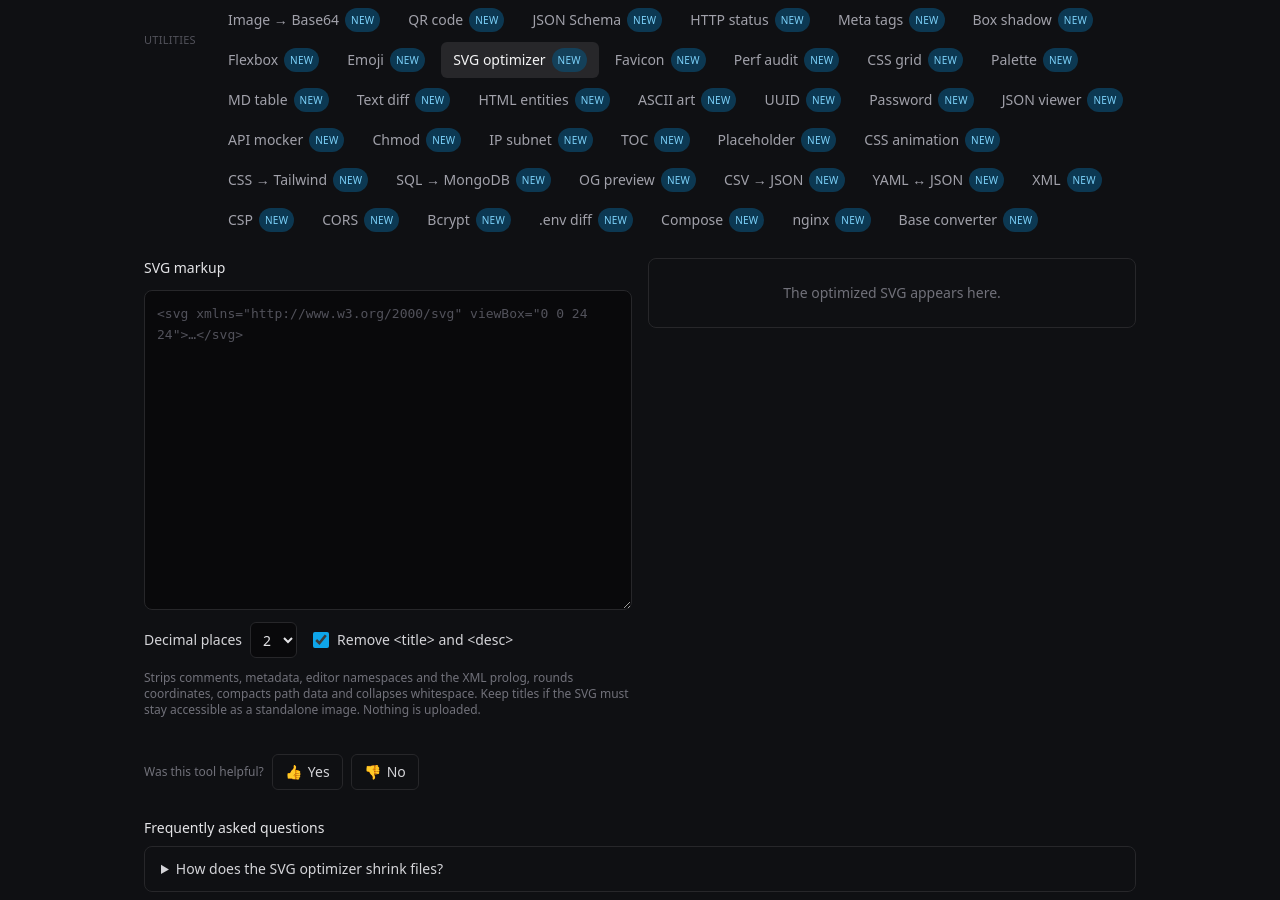
Test: SvgOptimizerPage › optimizes pasted SVG and shows savings + preview
(page scrolled)
Replace the text in the text box with test id "svg-input" with "<svg xmlns=\"http://www.w3.org/2000/svg\" viewBox=\"0 0 10 10\"><!-- hi --><rect x=\"1.23456\" y=\"0\" width=\"5\" height=\"5\"/></svg>": (388, 450) [144,290,632,610]
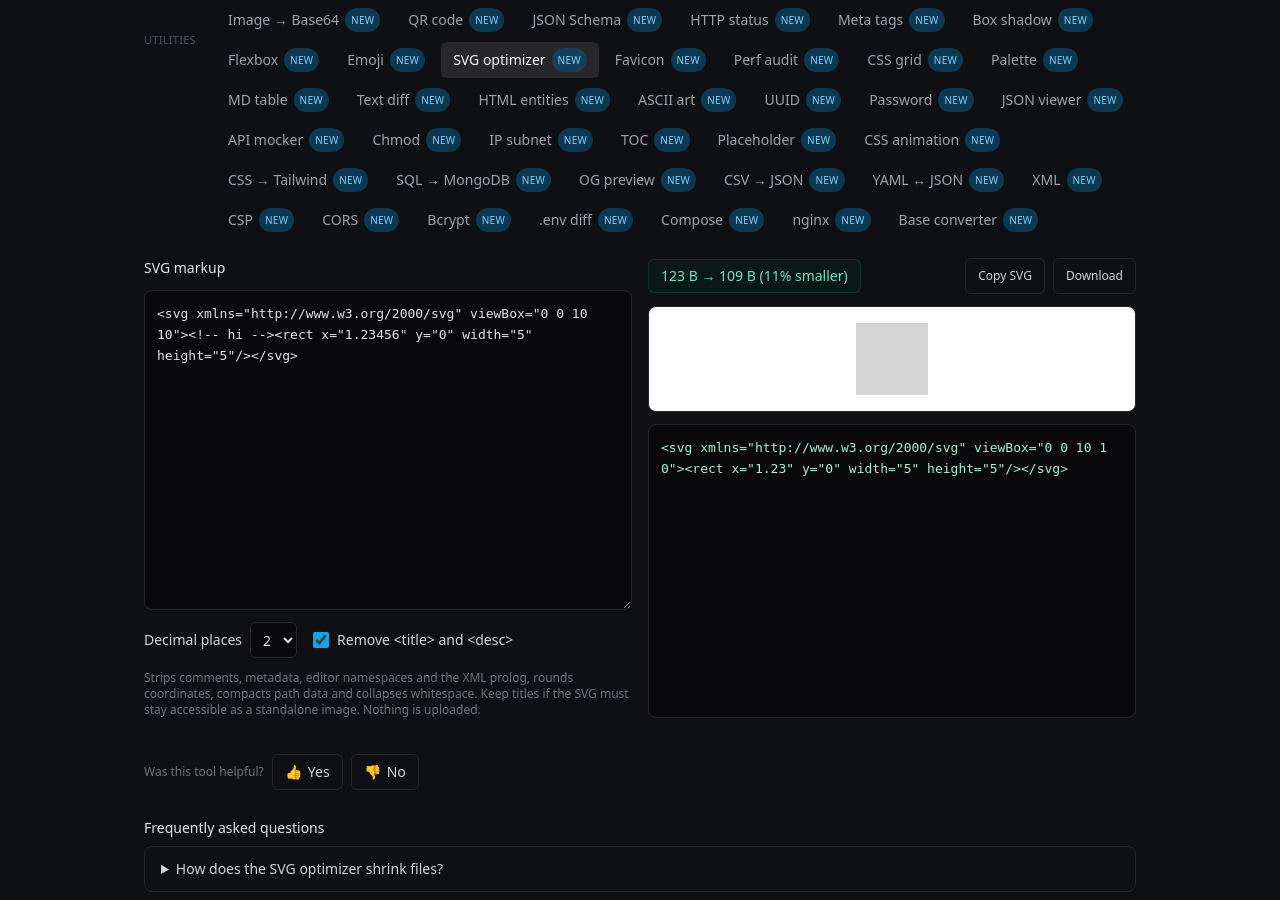
Expected: the element with test id "svg-output" does not show "<!--"
Expected: the text with test id "svg-output" shows "x=\"1.23\"", [661,440,1107,476]
Expected: the text with test id "svg-savings" shows "smaller", [661,266,848,285]
